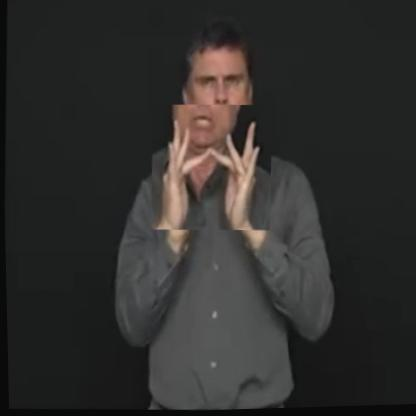Internet: (148, 103, 273, 235)
